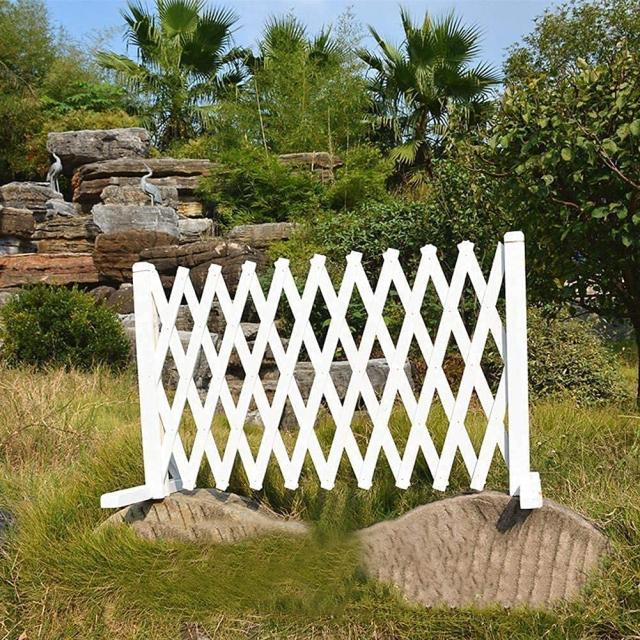Woods: (99, 233, 540, 517)
